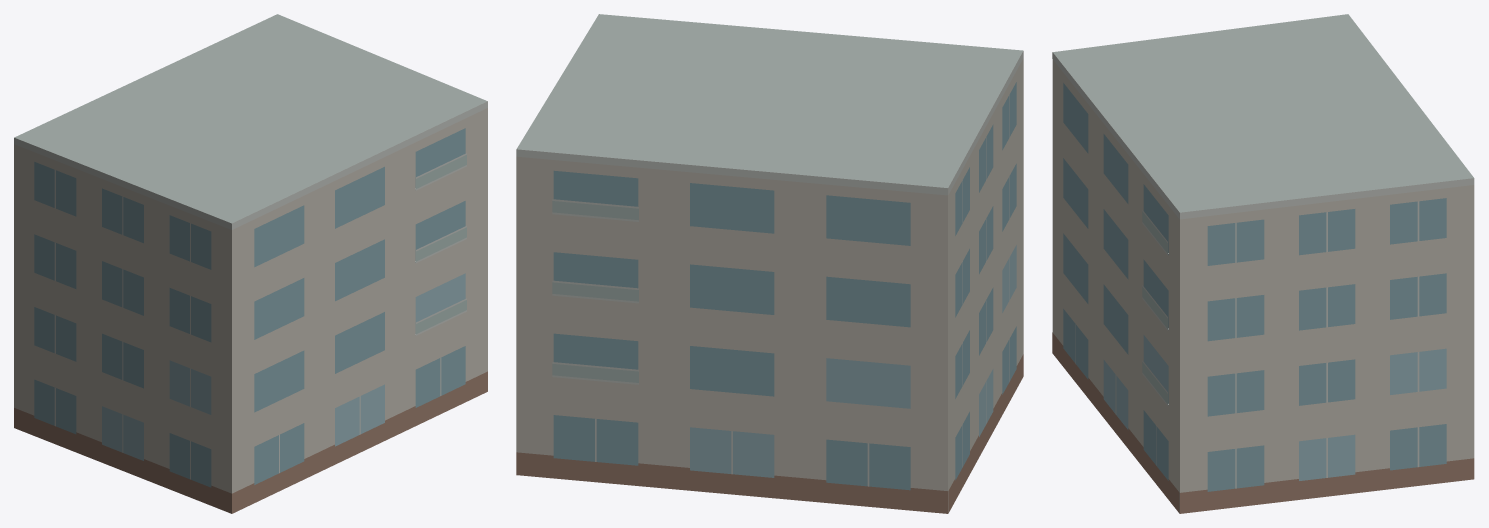
The model's file is survey-upis-32933241.glb.
3 renders of one model, left to right at view 1: azimuth 30°, elevation 25°; view 2: azimuth 150°, elevation 25°; view 3: azimuth 270°, elevation 25°, orthographic. The views are drawn at different scales.
Parts seen in each view (by area): view 1: survey-upis-32933241.tmp; view 2: survey-upis-32933241.tmp; view 3: survey-upis-32933241.tmp.
Boxes of the visible parts, <box> form: survey-upis-32933241.tmp: <box>14,14,487,513</box>; survey-upis-32933241.tmp: <box>516,14,1023,513</box>; survey-upis-32933241.tmp: <box>1052,14,1474,513</box>.
Size of the model in its own units: 15.29 by 10.8 by 13.72.
